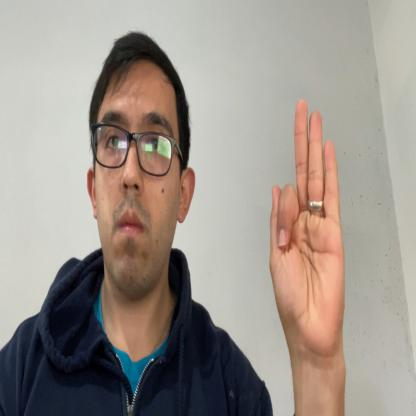F: (270, 97, 345, 351)
